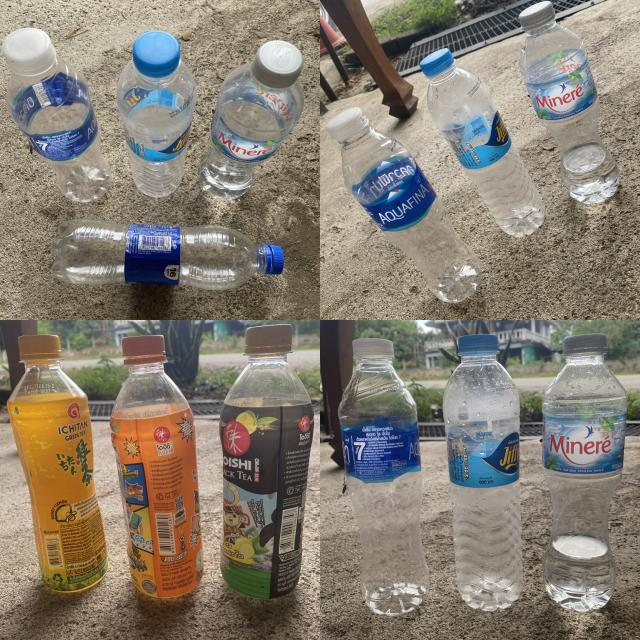plastik: (326, 108, 481, 302), (220, 325, 314, 599), (8, 335, 108, 592), (339, 339, 429, 615), (110, 335, 204, 598), (542, 334, 626, 611), (420, 49, 544, 236), (442, 334, 522, 611), (519, 1, 620, 204), (2, 28, 111, 202), (199, 40, 304, 200), (51, 219, 284, 290), (118, 30, 196, 198)
